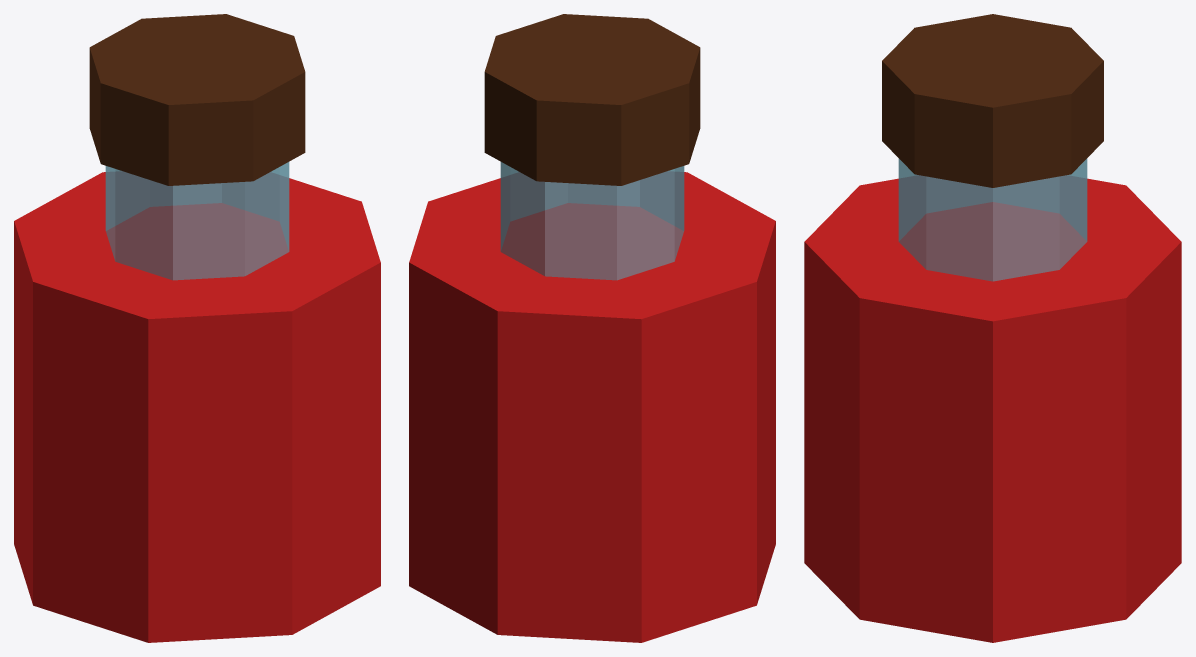
The model's file is health_potion.obj.
3 renders of one model, left to right at view 1: azimuth 30°, elevation 25°; view 2: azimuth 150°, elevation 25°; view 3: azimuth 270°, elevation 25°, orthographic.
Parts seen in each view (by area): view 1: models/items/health_potion.obj; view 2: models/items/health_potion.obj; view 3: models/items/health_potion.obj.
Boxes of the visible parts, x1=… form: models/items/health_potion.obj: x1=14, y1=14, x2=380, y2=642; models/items/health_potion.obj: x1=409, y1=14, x2=775, y2=642; models/items/health_potion.obj: x1=804, y1=14, x2=1181, y2=642.
Size of the model in its own units: 0.68 by 1 by 0.68.
